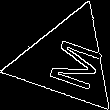M_W: (34, 30, 99, 91)
